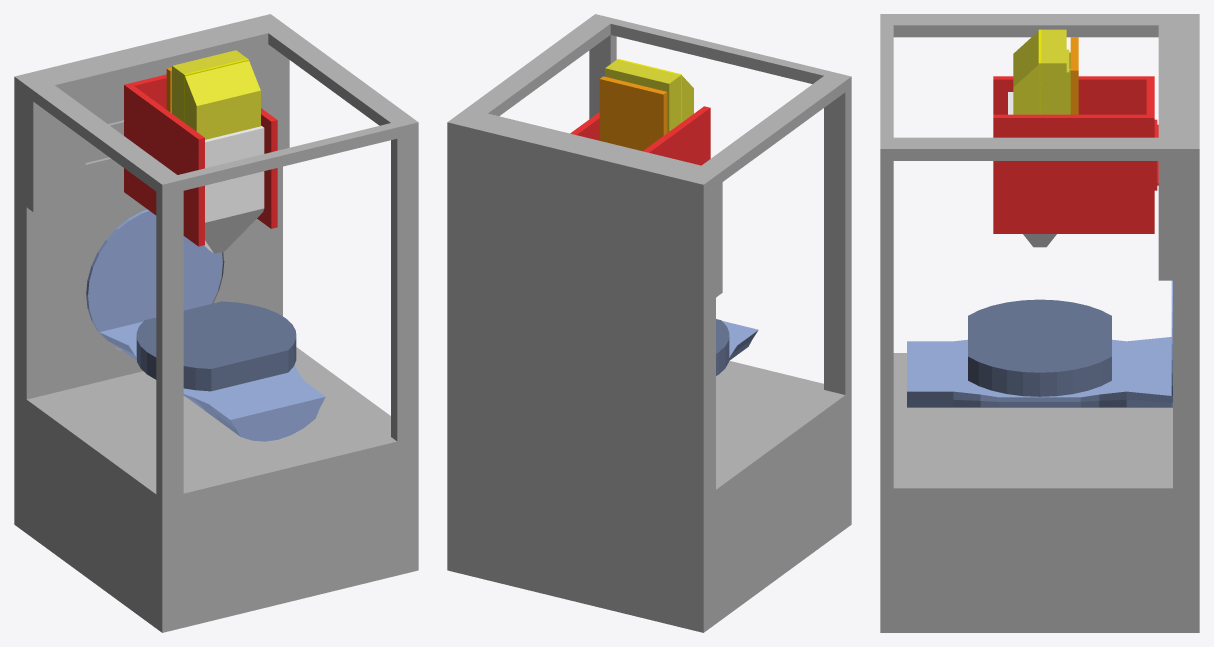
Rendered from MTO_v4.0.fbx.
The picture shows the model from 3 angles, left to right: view 1: azimuth 30°, elevation 25°; view 2: azimuth 150°, elevation 25°; view 3: azimuth 270°, elevation 25°; orthographic projection. The views are drawn at different scales.
Visible parts, largest first — view 1: Base, AxisB2, AxisX, AxisC, AxisY1, DetectorAll; view 2: Base, AxisZ, AxisX, AxisY1, AxisC, AxisB2; view 3: Base, AxisX, AxisB2, AxisC, AxisY1, AxisZ.
Part boxes in pixels (x1,y1,x2,y2): Base: (14,14,418,632); AxisB2: (136,301,296,391); AxisX: (124,74,277,246); AxisC: (99,321,325,441); AxisY1: (172,50,260,139); DetectorAll: (204,125,264,253); Base: (447,14,851,632); AxisZ: (599,76,667,151); AxisX: (570,106,710,165); AxisY1: (605,59,693,132); AxisC: (722,321,758,360); AxisB2: (716,319,729,375); Base: (880,14,1199,632); AxisX: (993,76,1158,233); AxisB2: (968,299,1111,396); AxisC: (907,337,1171,407); AxisY1: (1013,29,1070,114); AxisZ: (1070,37,1078,114).
Size of what is drawn, in the model's own units: 12 by 21.5 by 12.
